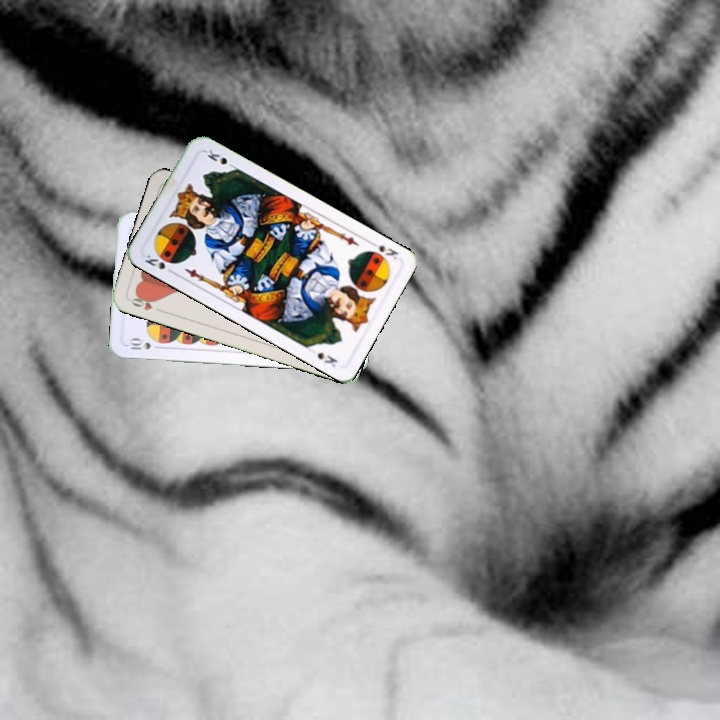HO: (125, 290, 165, 314)
S10: (125, 336, 164, 352)
SK: (140, 250, 178, 277), (365, 238, 401, 263)
